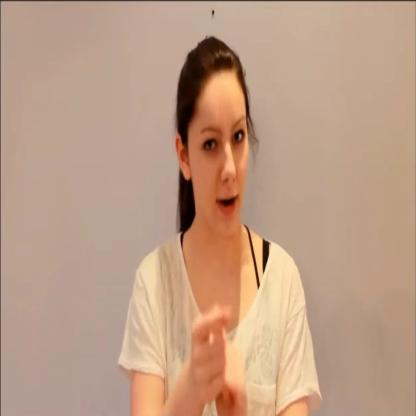HowAreYou: (184, 301, 253, 416)
